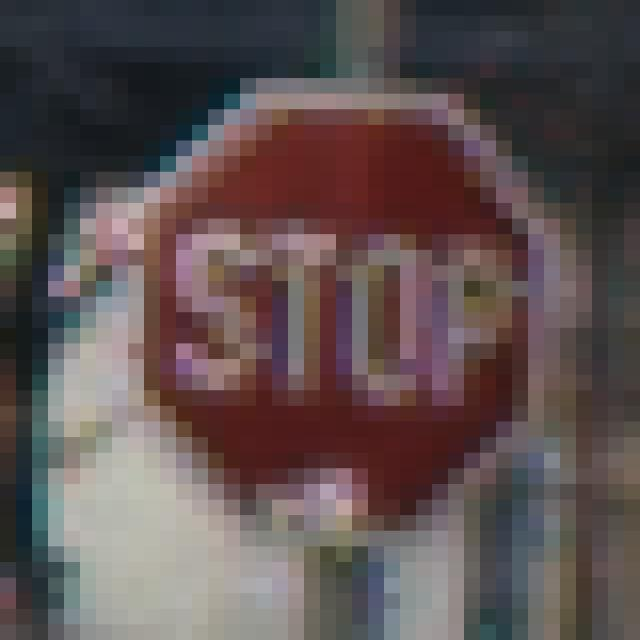STOP: (97, 79, 545, 563)
